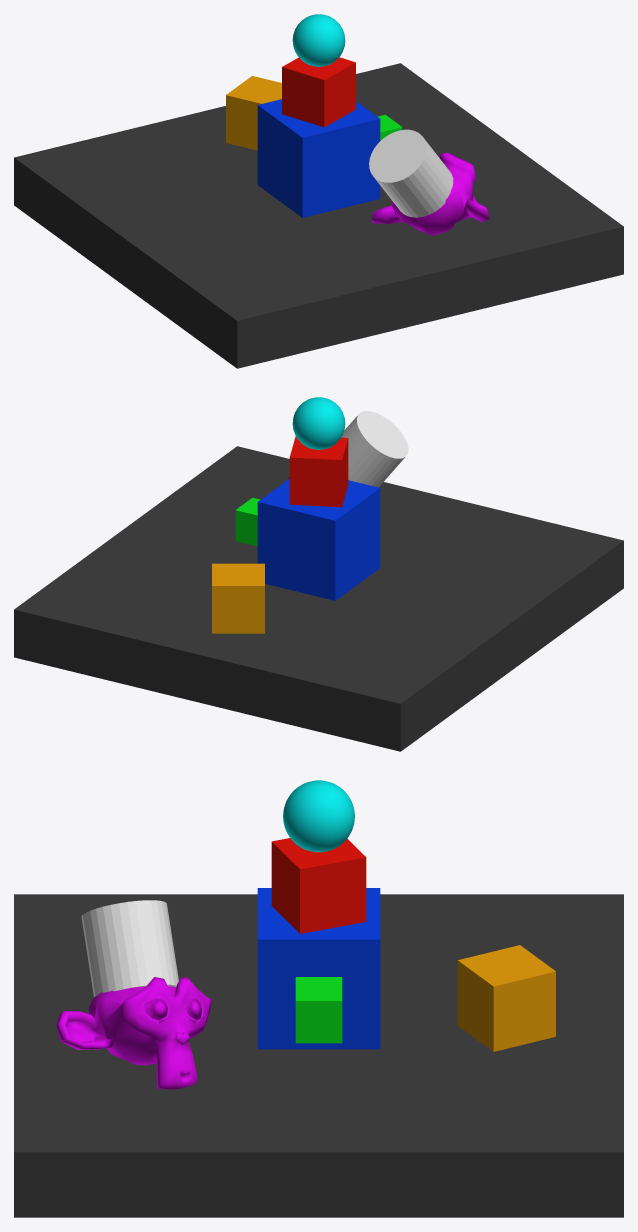
The model's file is simple_scene.glb.
3 views of the same model, one above another, from view 1: azimuth 30°, elevation 25°; view 2: azimuth 150°, elevation 25°; view 3: azimuth 270°, elevation 25° (orthographic). The views are drawn at different scales.
Parts seen in each view (by area): view 1: Floor, Blue Cube, Cylinder, Red Cube, Suzanne, Orange Cube, Metalic Sphere; view 2: Floor, Blue Cube, Orange Cube, Red Cube, Cylinder, Metalic Sphere, Green Overhang; view 3: Floor, Blue Cube, Suzanne, Orange Cube, Red Cube, Cylinder, Metalic Sphere, Green Overhang.
Part boxes in pixels (x1,y1,x2,y2): Floor: (14, 63, 623, 368); Blue Cube: (257, 99, 380, 217); Cylinder: (369, 129, 453, 217); Red Cube: (282, 57, 355, 127); Suzanne: (371, 152, 489, 235); Orange Cube: (226, 76, 281, 150); Metalic Sphere: (292, 14, 345, 66); Floor: (14, 446, 623, 751); Blue Cube: (257, 479, 380, 600); Orange Cube: (212, 563, 264, 633); Red Cube: (289, 436, 348, 507); Cylinder: (341, 411, 408, 487); Metalic Sphere: (292, 397, 345, 449); Green Overhang: (235, 497, 260, 546); Floor: (14, 894, 623, 1217); Blue Cube: (257, 888, 380, 1049); Suzanne: (56, 977, 212, 1089); Orange Cube: (457, 945, 555, 1051); Red Cube: (271, 838, 366, 933); Cylinder: (81, 900, 178, 997); Metalic Sphere: (283, 780, 354, 852); Green Overhang: (295, 977, 342, 1043).
Size of the model in its own units: 16.92 by 9.33 by 16.92.
